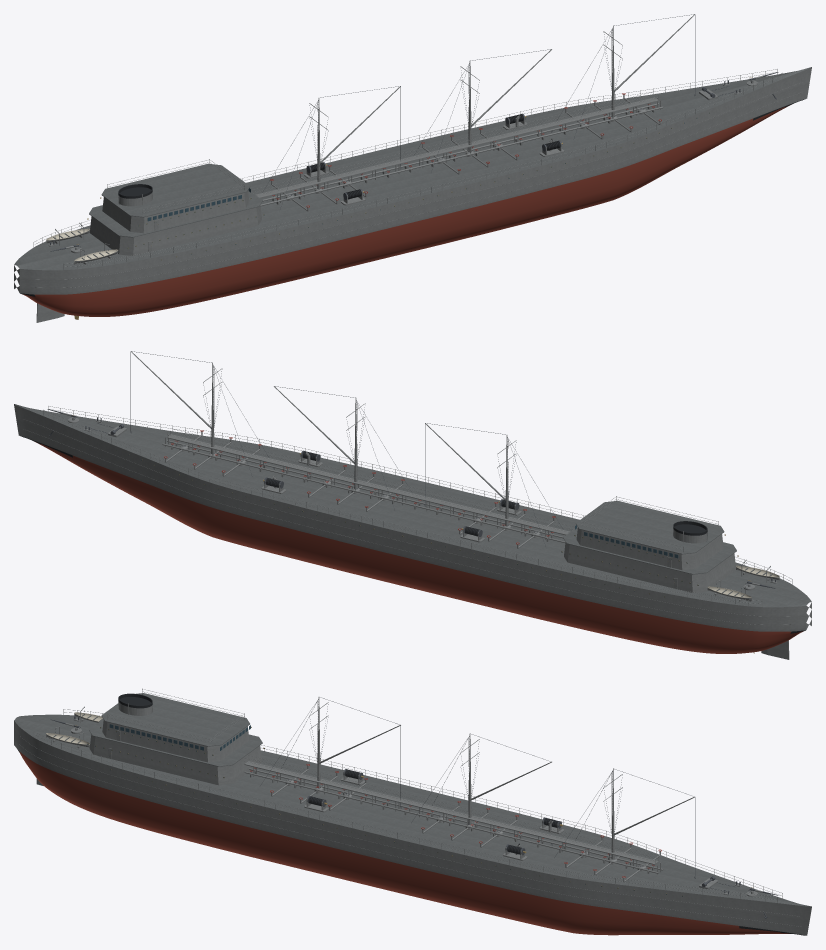
The model's file is jp_support_1932.glb.
3 views of the same model, one above another, from view 1: azimuth 30°, elevation 25°; view 2: azimuth 150°, elevation 25°; view 3: azimuth 330°, elevation 25° (orthographic).
Visible parts, largest first — view 1: Fleet support ship · 1932; view 2: Fleet support ship · 1932; view 3: Fleet support ship · 1932.
Part boxes in pixels (bbox=[...]): Fleet support ship · 1932: bbox=[14, 14, 811, 322]; Fleet support ship · 1932: bbox=[14, 351, 811, 659]; Fleet support ship · 1932: bbox=[14, 688, 811, 935].
Bounding box in the file's own units: 144 × 27.6 × 18.09.
Materials: 9 (2 with a texture image).
